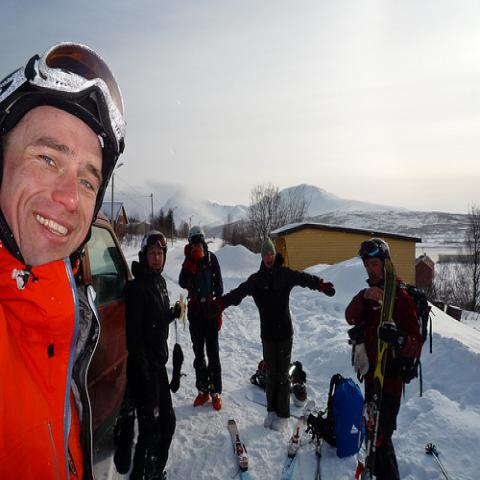car: (82, 210, 131, 456)
